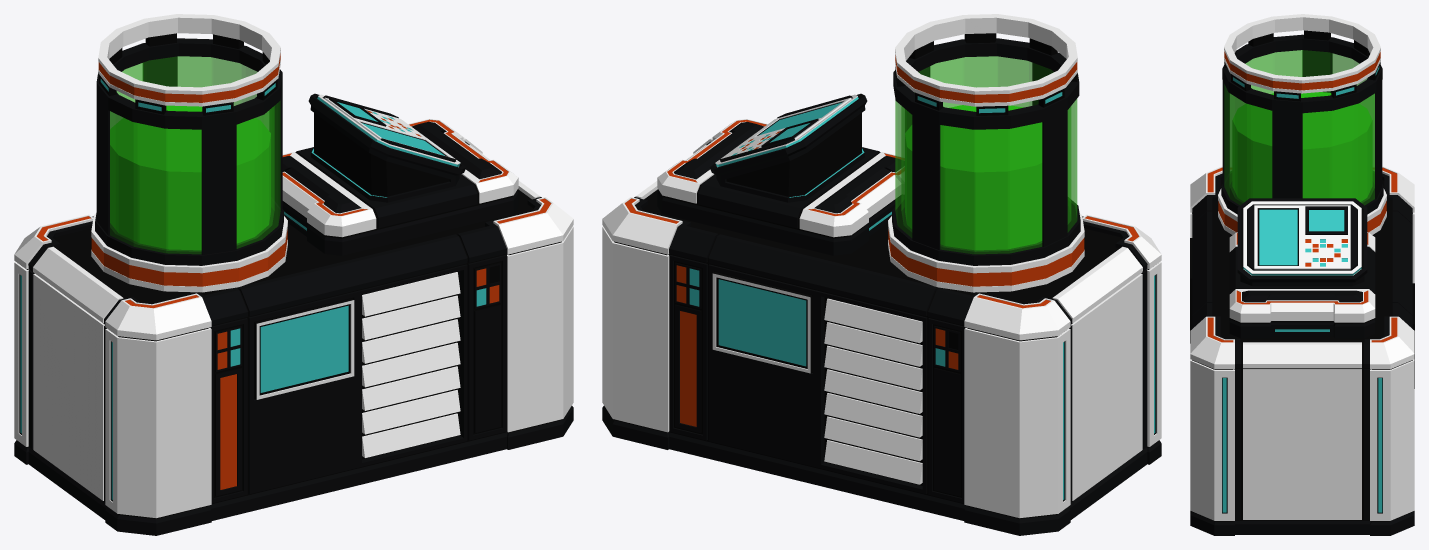
The model's file is SM_BioChem_T1.obj.
3 views of the same model, side by side, from view 1: azimuth 30°, elevation 25°; view 2: azimuth 150°, elevation 25°; view 3: azimuth 270°, elevation 25° (orthographic). The views are drawn at different scales.
Parts seen in each view (by area): view 1: SM_BioChem_T1; view 2: SM_BioChem_T1; view 3: SM_BioChem_T1.
Boxes of the visible parts, bbox=[...] form: SM_BioChem_T1: bbox=[14, 14, 573, 535]; SM_BioChem_T1: bbox=[602, 14, 1161, 535]; SM_BioChem_T1: bbox=[1190, 14, 1414, 535].
Size of the model in its own units: 2 by 1.72 by 1.
